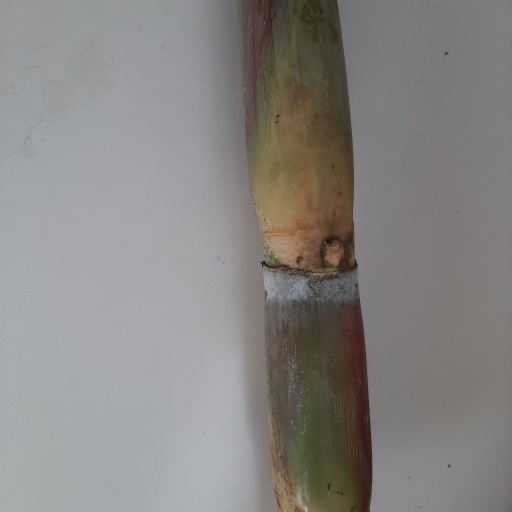Bud: (321, 237, 346, 269)
